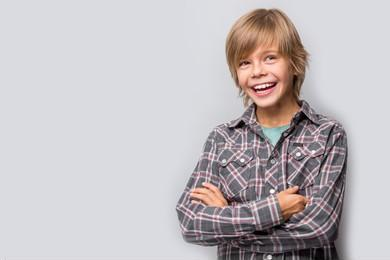face: (237, 49, 291, 109)
